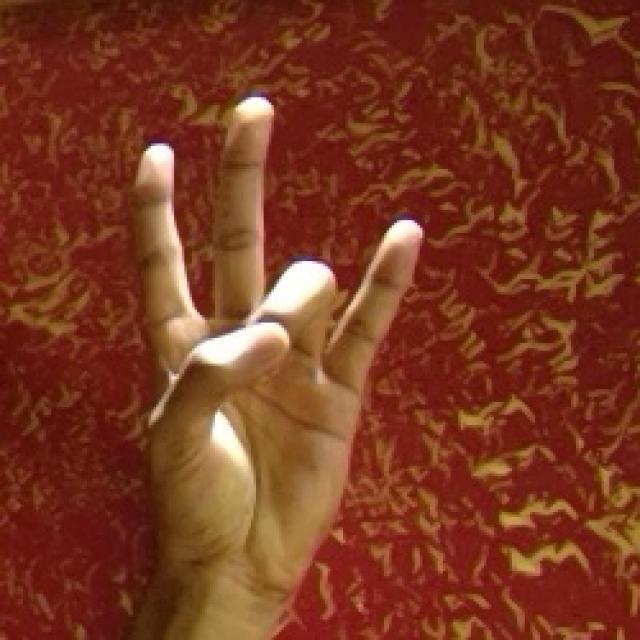Numeric-7: (117, 89, 427, 596)
